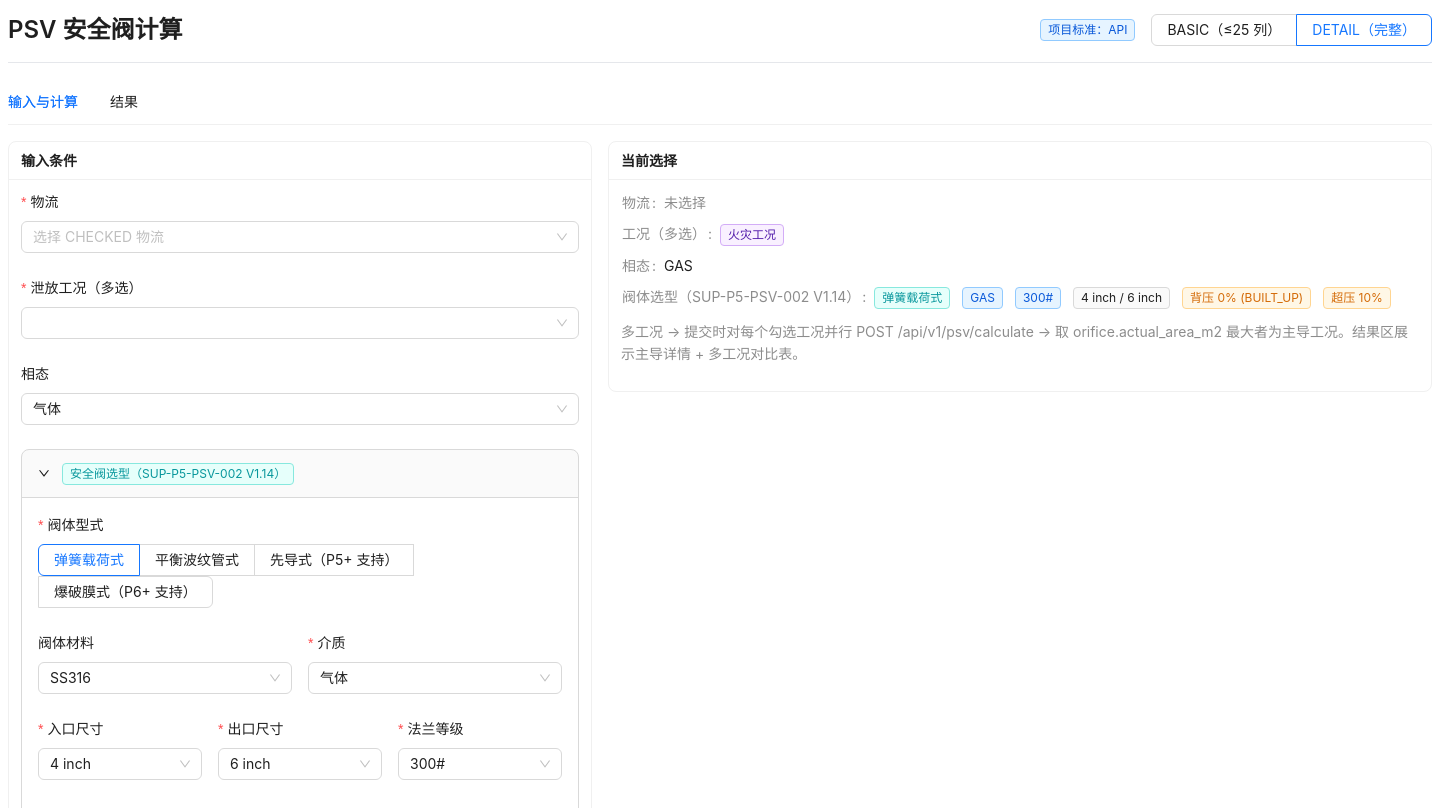
Scenario: PsvComputePage — 安全阀选型 SUP-P5-PSV-002 §5.1 › SUP-P5-PSV-002 §4.2：后端返回 PSV_PILOT_OPERATED_NOT_SUPPORTED → 显示 P5+ 提示
// 必须先选 stream，否则 handleSubmit 提前返回
Press the mouse on the element showing "选择 CHECKED 物流" at (300, 237), box [21,221,579,253]
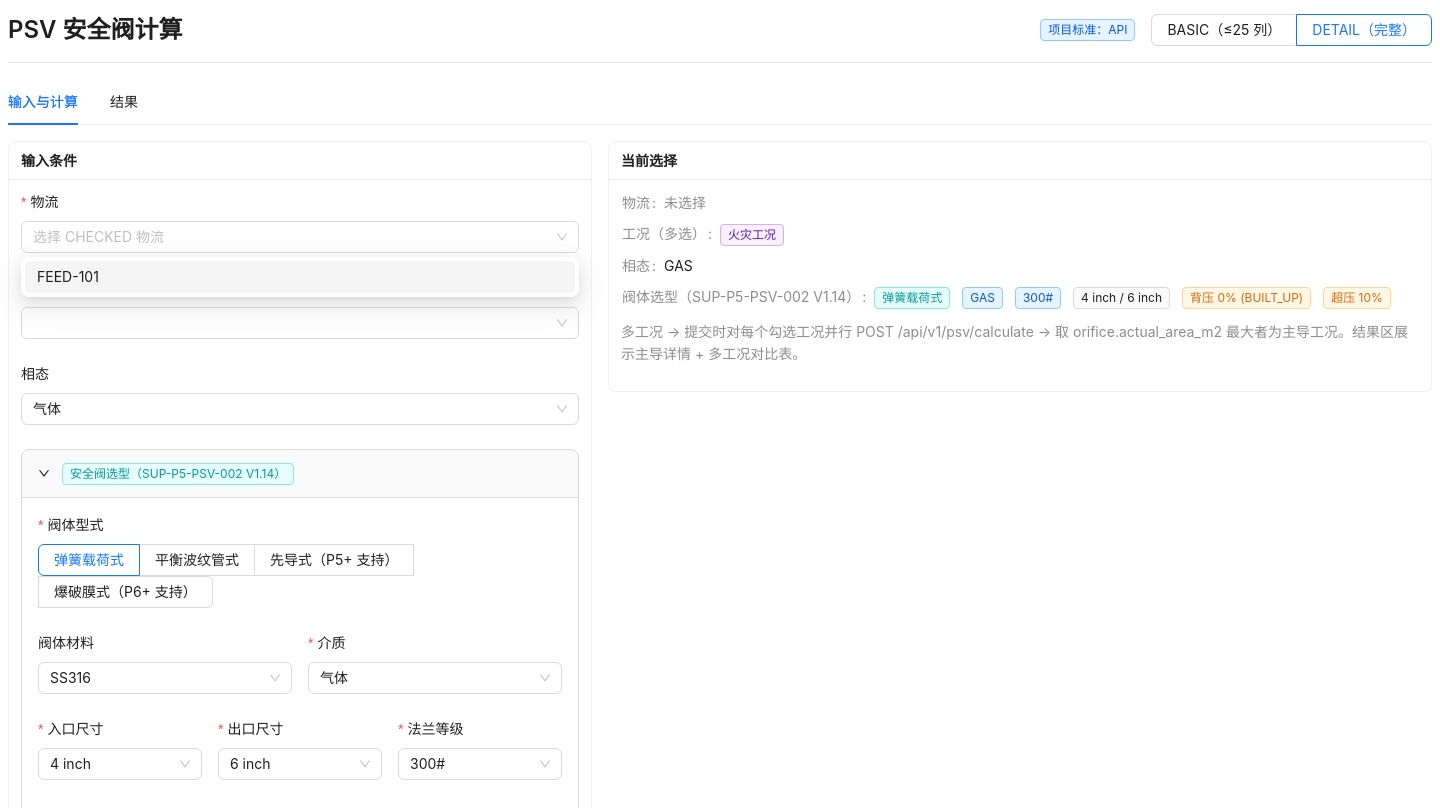
expect the element showing "FEED-101" is shown: met, box [21,257,579,297]
expect the text "FEED-101" is shown: met
Click the text "FEED-101". click: click(300, 277)
box: [25,261,575,293]
(page scrolled)
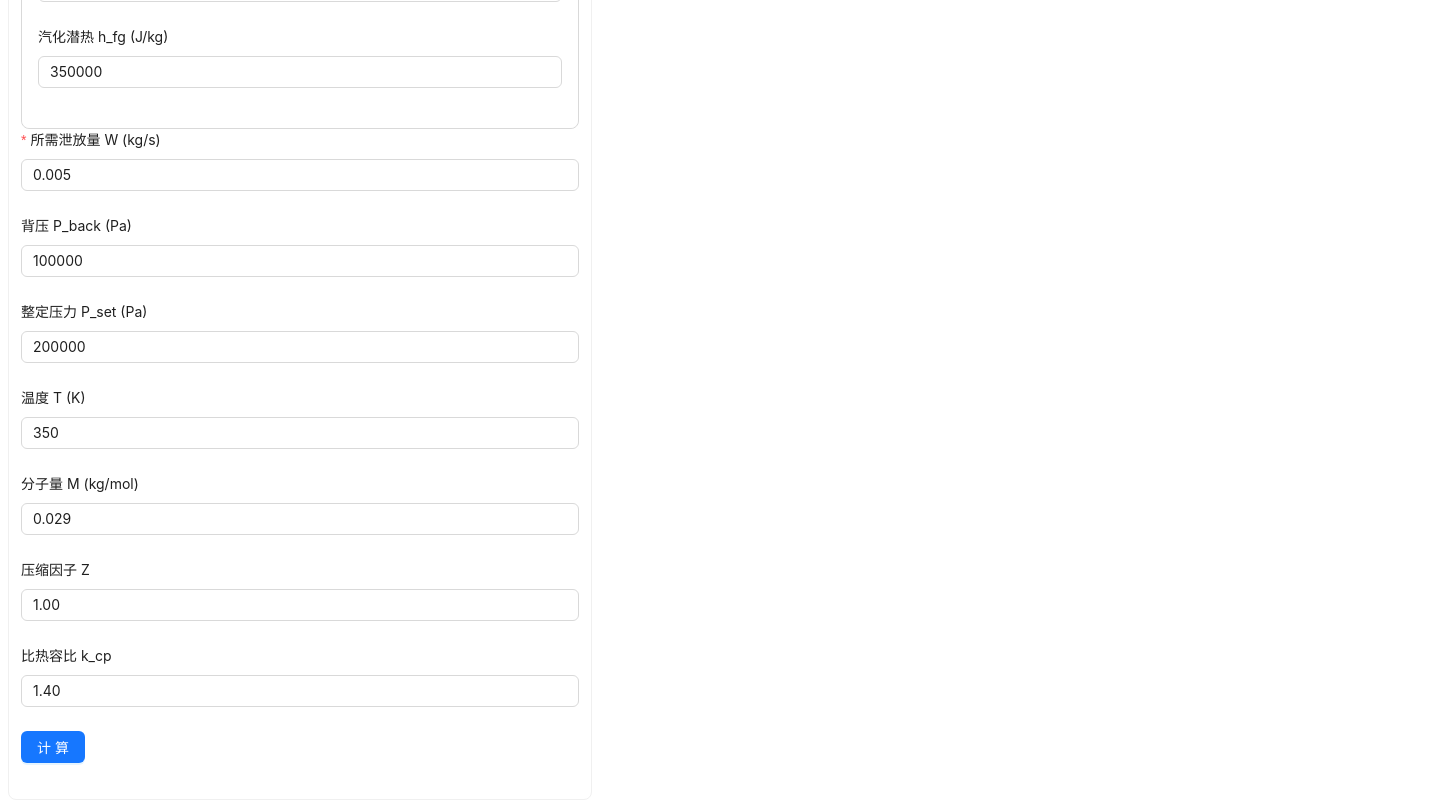
Click the button with test id "psv-calculate". click: click(53, 747)
box: [21,731,85,763]
(page scrolled)
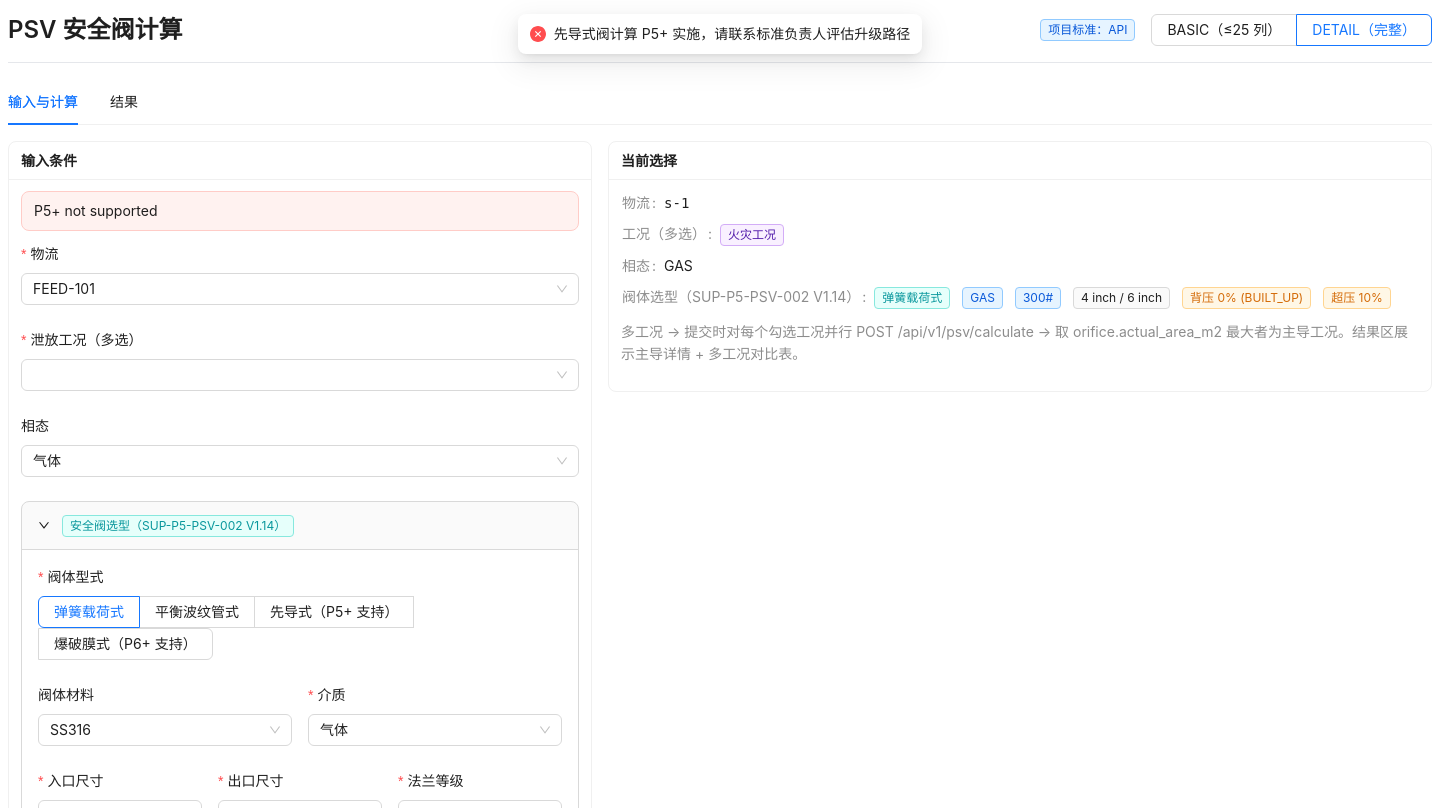
expect the message "P5+ not supported" is shown: met, box [21,191,579,231]
